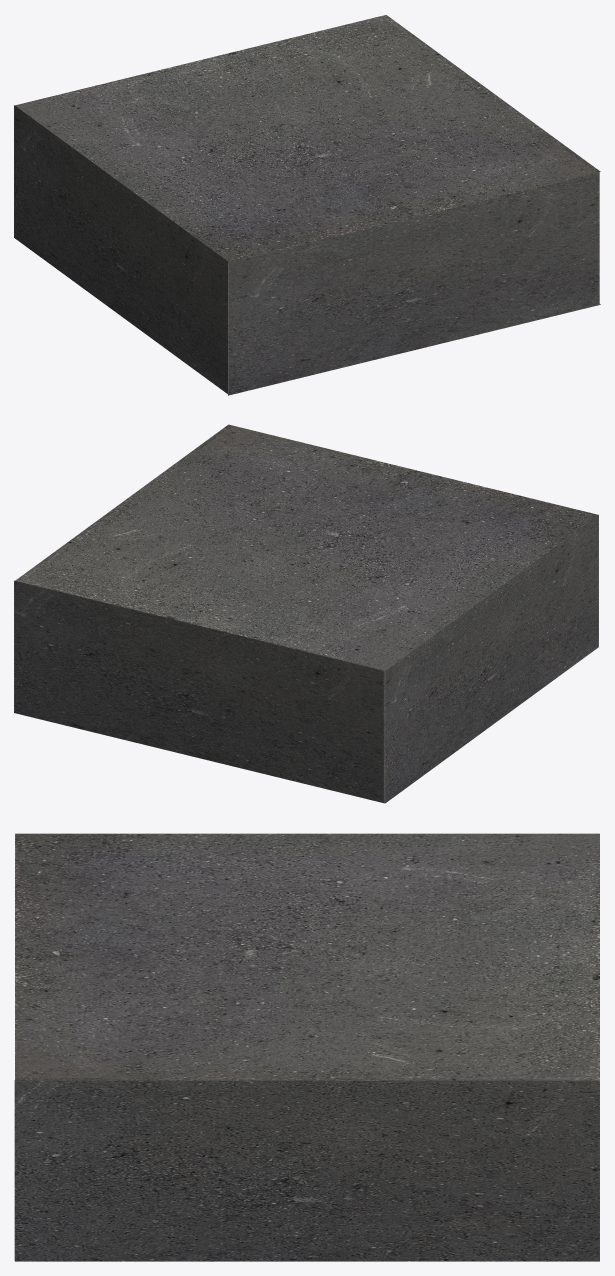
The model's file is cardeada.glb.
The picture shows the model from 3 angles, top to bottom: view 1: azimuth 30°, elevation 25°; view 2: azimuth 150°, elevation 25°; view 3: azimuth 270°, elevation 25°; orthographic projection. The views are drawn at different scales.
Visible parts, largest first — view 1: Plano (×3); view 2: Plano (×3); view 3: Plano (×3).
Part boxes in pixels (bbox=[...]): Plano (×3): bbox=[14, 15, 600, 395]; Plano (×3): bbox=[14, 424, 598, 803]; Plano (×3): bbox=[14, 833, 599, 1261].
Bounding box in the file's own units: 0.1235 × 0.0419 × 0.1231.
Materials: 6 (6 with a texture image).
